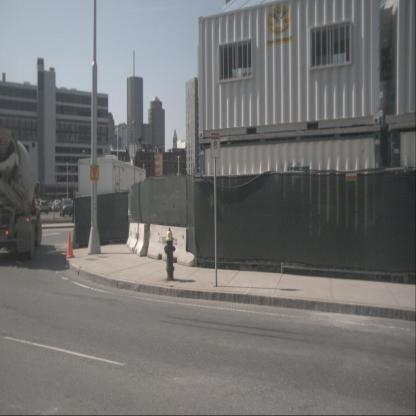barrier: (147, 223, 195, 266), (134, 223, 152, 256), (126, 223, 144, 252)
cone: (66, 230, 75, 258)
